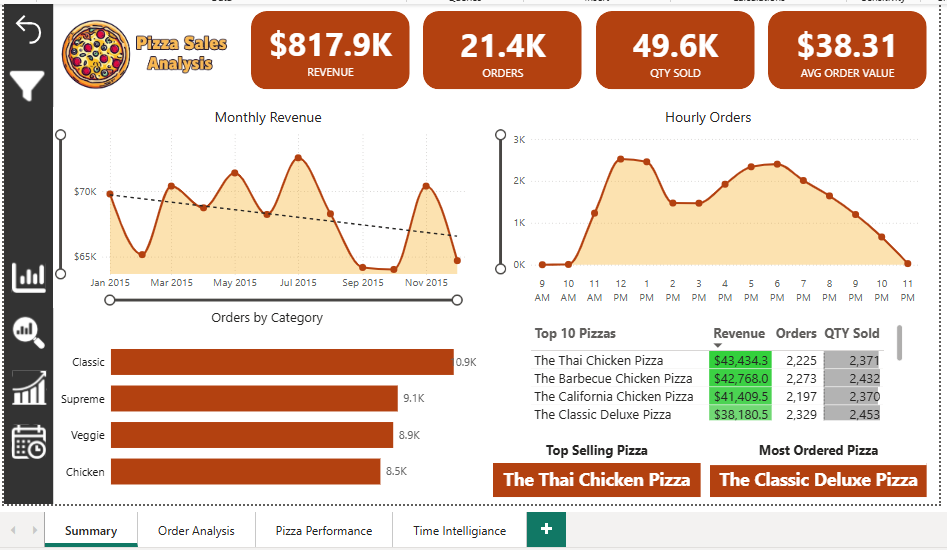

What the dashboard file says about the page in this screenshot:
{"tool":"powerbi","page":{"name":"Summary","canvas":[1345,720],"ordinal":0},"visuals":[{"type":"shape","box":[0,0,70.9,720.2],"z":0},{"type":"shape","box":[604,10.1,228.5,112.8],"z":1000},{"type":"shape","box":[355.8,10.1,228.5,112.8],"z":2000},{"type":"shape","box":[852.3,10.1,228.5,112.8],"z":3000},{"type":"card","fields":{"Values":["Measures Table.Total Revenue"]},"box":[355.5,9,228.9,114.5],"z":4000},{"type":"card","fields":{"Values":["Measures Table.Total Orders"]},"box":[603.4,10.1,230.4,113.8],"z":5000},{"type":"card","fields":{"Values":["Measures Table.QTY Sold"]},"box":[851,10.1,231.8,113.8],"z":6000},{"type":"shape","box":[1100.6,10.1,228.5,112.8],"z":7000},{"type":"card","fields":{"Values":["Measures Table.Avg Order Value"]},"box":[1100.2,10.1,229,113.8],"z":8000},{"type":"lineChart","title":"Monthly Revenue","fields":{"Y":["Measures Table.Total Revenue"],"Category":["Date.Start of Month.Variation.Date Hierarchy.Year","Date.Start of Month.Variation.Date Hierarchy.Quarter","Date.Start of Month.Variation.Date Hierarchy.Month","Date.Start of Month.Variation.Date Hierarchy.Day"]},"box":[70.6,148.3,619.2,289.4],"z":9000},{"type":"clusteredBarChart","title":"Orders by Category","fields":{"Category":["Pizza Types.category"],"Y":["Measures Table.Total Orders 2"]},"box":[72,437.8,613.4,282.2],"z":10000},{"type":"lineChart","title":"Hourly Orders","fields":{"Category":["Orders.Time AM/PM"],"Y":["Measures Table.Total Orders 2"]},"box":[704.1,147.9,619.3,291.2],"z":11000},{"type":"card","fields":{"Values":["Min(Pizza Types.name)"]},"box":[704.3,660.9,299.4,49.2],"z":12000},{"type":"card","fields":{"Values":["Min(Pizza Types.name)"]},"box":[1016.7,660.9,312.4,49.2],"z":13000},{"type":"textbox","box":[704.3,624.8,299.4,36.2],"z":14000},{"type":"textbox","box":[1016.7,624.8,312.4,39],"z":15000},{"type":"tableEx","title":"Top 10 Pizzas","fields":{"Values":["Pizza Types.name","Measures Table.Total Revenue","Measures Table.Total Orders 2","Measures Table.QTY Sold 2"]},"box":[753.1,456.5,545.8,148.3],"z":16000},{"type":"actionButton","box":[8.7,8.7,53.5,56.4],"z":17000},{"type":"actionButton","box":[7.5,444.8,64.6,57.1],"z":18000},{"type":"actionButton","box":[0,523.5,72.1,57.1],"z":19000},{"type":"actionButton","box":[7.5,602.1,63.1,57.1],"z":20000},{"type":"actionButton","box":[7.5,366.2,63.1,57.1],"z":21000},{"type":"actionButton","box":[4.3,89.7,63.6,57.8],"z":22000},{"type":"image","box":[72,10.1,266.4,122.4],"z":24000}]}

Visuals, with their boxes on the page's 1345x720 design canvas (x1, y1, x2, y2). These are canvas units, not pixel positions in the 947x550 screenshot, which may show the page scaled, cropped or inside an application window:
shape: {"x1": 0, "y1": 0, "x2": 71, "y2": 720}
shape: {"x1": 604, "y1": 10, "x2": 832, "y2": 123}
shape: {"x1": 356, "y1": 10, "x2": 584, "y2": 123}
shape: {"x1": 852, "y1": 10, "x2": 1081, "y2": 123}
card - Measures Table.Total Revenue: {"x1": 356, "y1": 9, "x2": 584, "y2": 124}
card - Measures Table.Total Orders: {"x1": 603, "y1": 10, "x2": 834, "y2": 124}
card - Measures Table.QTY Sold: {"x1": 851, "y1": 10, "x2": 1083, "y2": 124}
shape: {"x1": 1101, "y1": 10, "x2": 1329, "y2": 123}
card - Measures Table.Avg Order Value: {"x1": 1100, "y1": 10, "x2": 1329, "y2": 124}
"Monthly Revenue" lineChart: {"x1": 71, "y1": 148, "x2": 690, "y2": 438}
"Orders by Category" clusteredBarChart: {"x1": 72, "y1": 438, "x2": 685, "y2": 720}
"Hourly Orders" lineChart: {"x1": 704, "y1": 148, "x2": 1323, "y2": 439}
card - Min(Pizza Types.name): {"x1": 704, "y1": 661, "x2": 1004, "y2": 710}
card - Min(Pizza Types.name): {"x1": 1017, "y1": 661, "x2": 1329, "y2": 710}
textbox: {"x1": 704, "y1": 625, "x2": 1004, "y2": 661}
textbox: {"x1": 1017, "y1": 625, "x2": 1329, "y2": 664}
"Top 10 Pizzas" tableEx: {"x1": 753, "y1": 456, "x2": 1299, "y2": 605}
actionButton: {"x1": 9, "y1": 9, "x2": 62, "y2": 65}
actionButton: {"x1": 8, "y1": 445, "x2": 72, "y2": 502}
actionButton: {"x1": 0, "y1": 524, "x2": 72, "y2": 581}
actionButton: {"x1": 8, "y1": 602, "x2": 71, "y2": 659}
actionButton: {"x1": 8, "y1": 366, "x2": 71, "y2": 423}
actionButton: {"x1": 4, "y1": 90, "x2": 68, "y2": 148}
image: {"x1": 72, "y1": 10, "x2": 338, "y2": 132}
